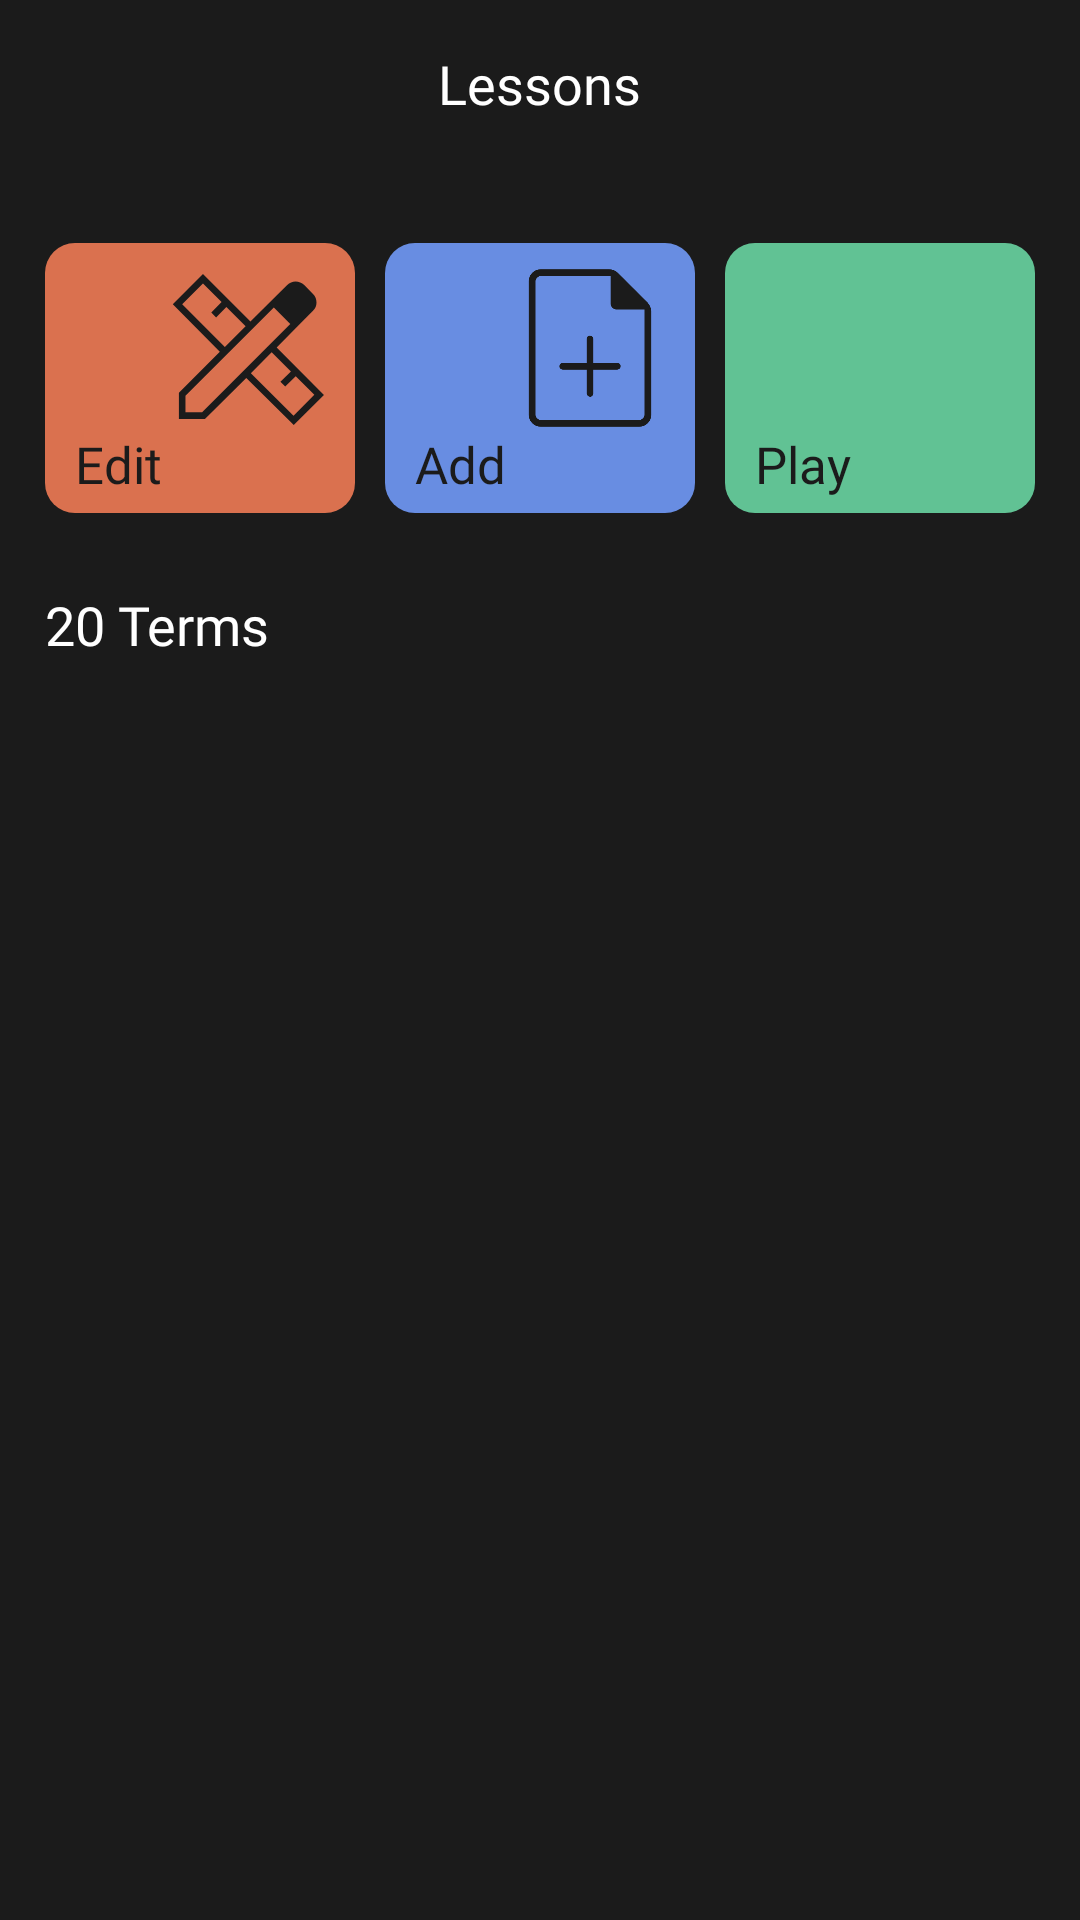

Locate icon controls on the screen. Image size 1080x1920, boxes as [x1=x1, y1=y1, x2=x2, y2=y2].
add word: [x1=528, y1=269, x2=652, y2=427]
